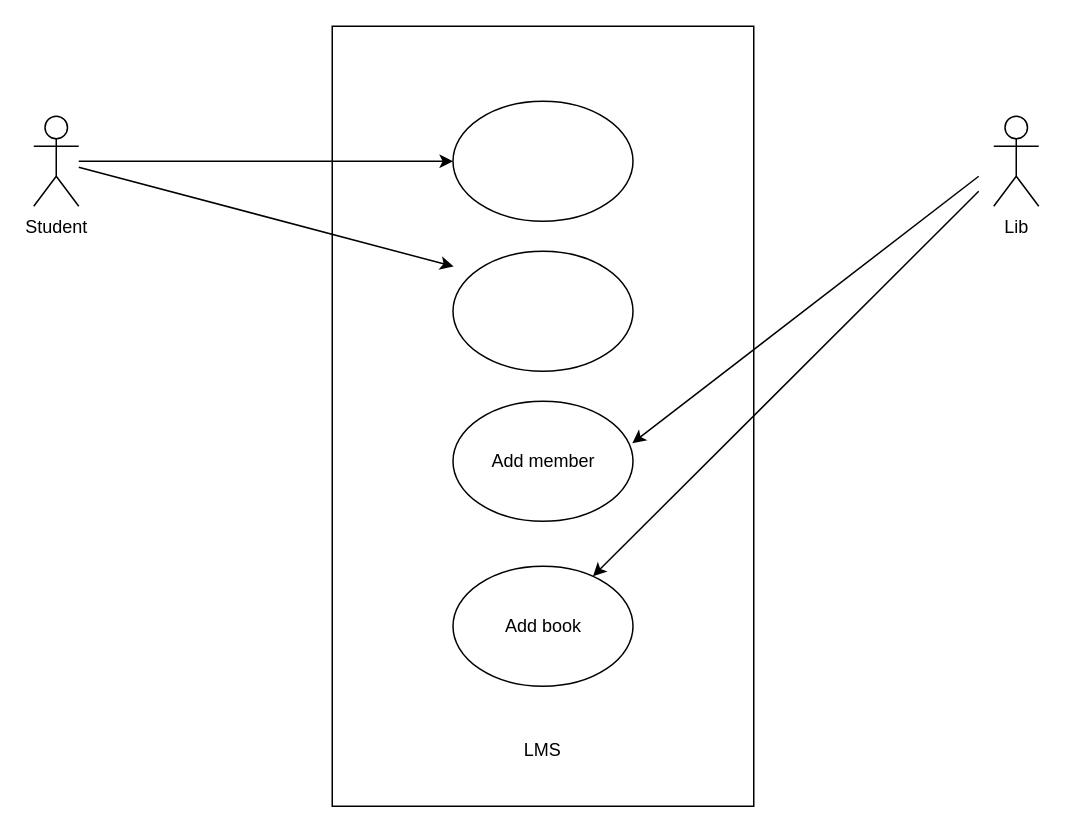
Image size: 1065x833. Some labels were removed from this diagram. Here are the shapes that lost their labels. From the top down, the box of each, then its label:
(452, 100, 633, 221): Login
(452, 250, 633, 371): Return book
